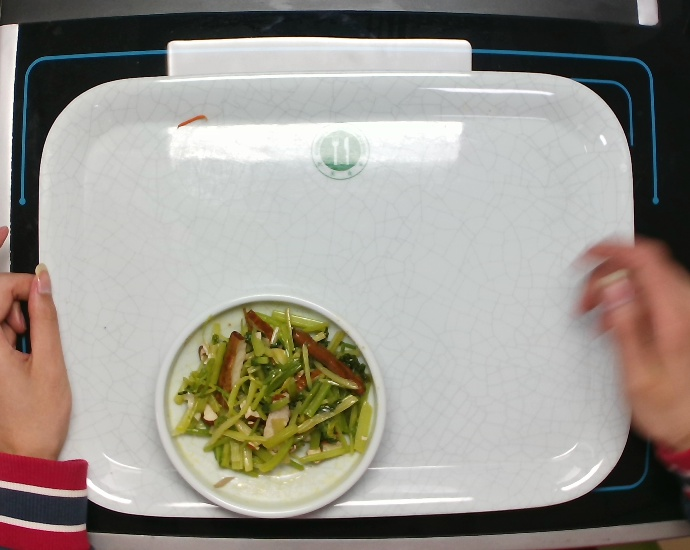JYsf-Xiao_Yuan_Pan: (152, 290, 388, 520)
